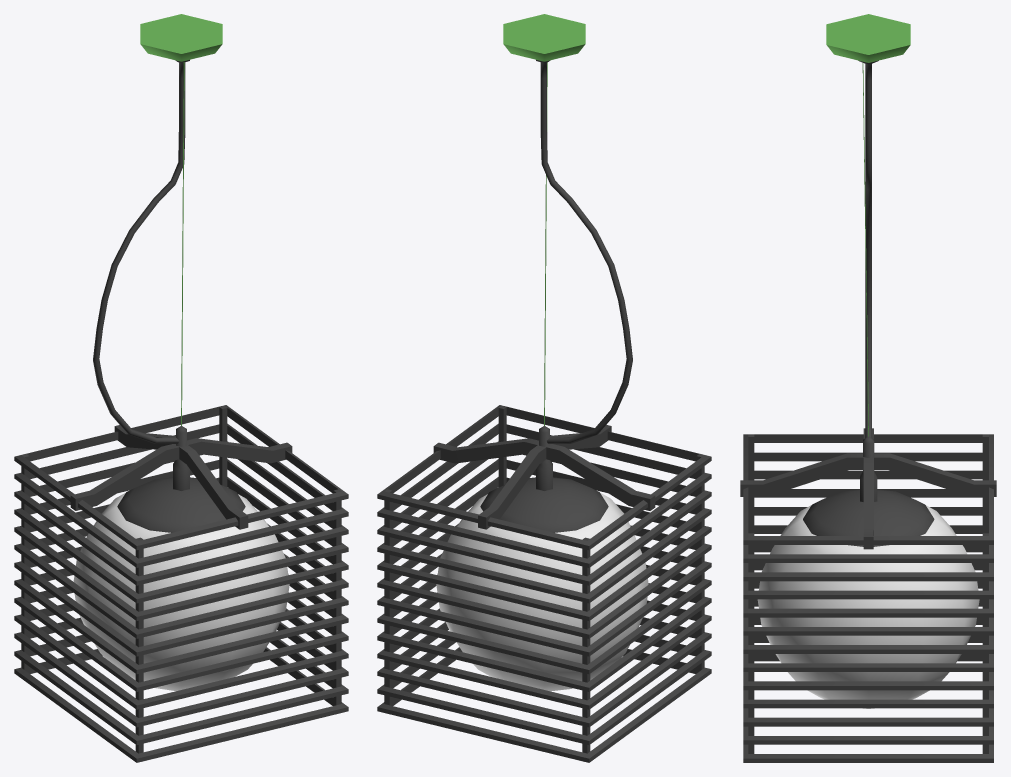
The model's file is LightTopDesign09.FBX.
The picture shows the model from 3 angles, left to right: view 1: azimuth 30°, elevation 25°; view 2: azimuth 150°, elevation 25°; view 3: azimuth 270°, elevation 25°; orthographic projection. The views are drawn at different scales.
Visible parts, largest first — view 1: LightTopDesign09; view 2: LightTopDesign09; view 3: LightTopDesign09.
Part boxes in pixels (x1,y1,x2,y2): LightTopDesign09: (14, 14, 348, 762); LightTopDesign09: (377, 14, 711, 762); LightTopDesign09: (740, 14, 996, 762).
Size of the model in its own units: 645 by 1880 by 645.
